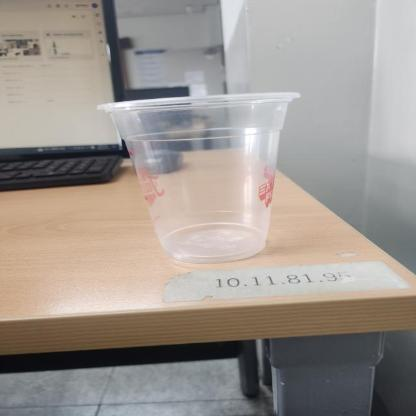Plastic Cup: (97, 90, 301, 264)
